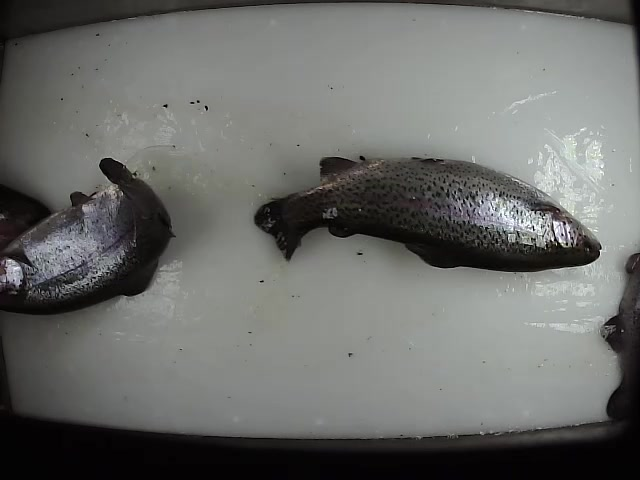fish: (251, 153, 604, 275), (1, 155, 176, 316), (599, 252, 640, 421)
